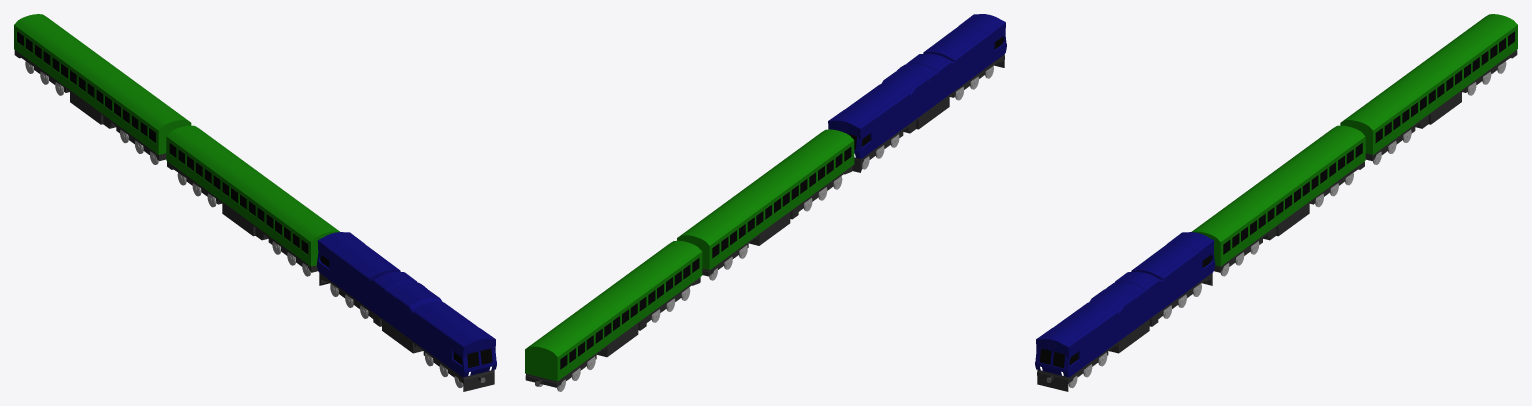
Rendered from train (1).glb.
3 views of the same model, side by side, from view 1: azimuth 30°, elevation 25°; view 2: azimuth 150°, elevation 25°; view 3: azimuth 330°, elevation 25° (orthographic).
Visible parts, largest first — view 1: Plane_2, Cube.004_51, Cube.002_33, Cube_3, Cube.003_38, Cube.001_20; view 2: Plane_2, Cube.004_51, Cube.002_33, Cube.003_38, Cube_3, Cube.001_20; view 3: Plane_2, Cube.004_51, Cube.002_33, Cube_3, Cube.003_38, Cube.001_20.
Part boxes in pixels (<box>): Plane_2: <box>317,232,496,377</box>; Cube.004_51: <box>14,14,191,154</box>; Cube.002_33: <box>166,125,339,266</box>; Cube_3: <box>319,273,494,391</box>; Cube.003_38: <box>14,50,166,161</box>; Cube.001_20: <box>167,161,317,272</box>; Plane_2: <box>828,14,1006,158</box>; Cube.004_51: <box>525,240,702,381</box>; Cube.002_33: <box>677,129,854,270</box>; Cube.003_38: <box>525,277,700,387</box>; Cube_3: <box>852,54,1004,172</box>; Cube.001_20: <box>702,166,852,276</box>; Plane_2: <box>1035,232,1215,377</box>; Cube.004_51: <box>1340,14,1517,154</box>; Cube.002_33: <box>1191,125,1365,266</box>; Cube_3: <box>1037,273,1212,391</box>; Cube.003_38: <box>1365,50,1517,161</box>; Cube.001_20: <box>1214,161,1364,272</box>.
Bounding box in the file's own units: 0.61 × 0.9532 × 14.74.
